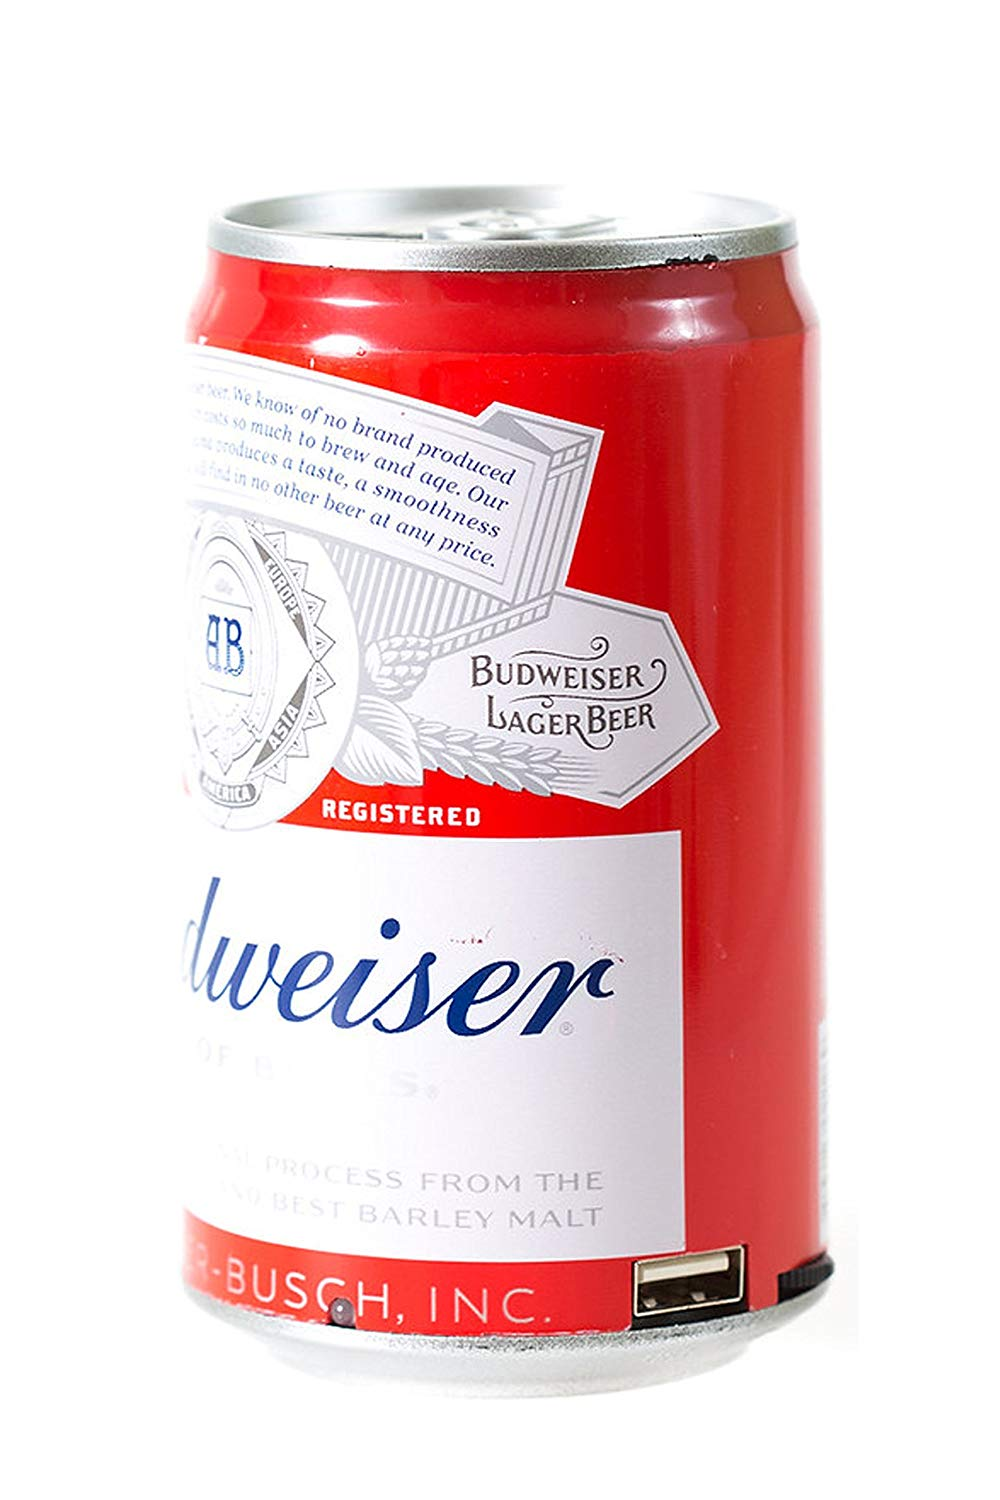beer can: (163, 179, 833, 1395)
